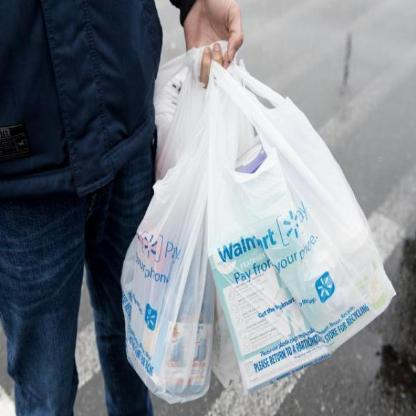Plastic Bag: (207, 52, 395, 392), (112, 38, 216, 402)
